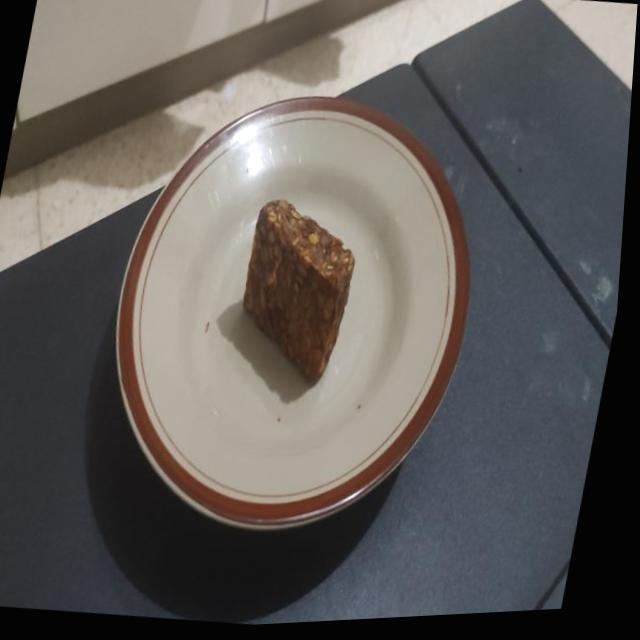tempe_goreng: (243, 200, 354, 382)
